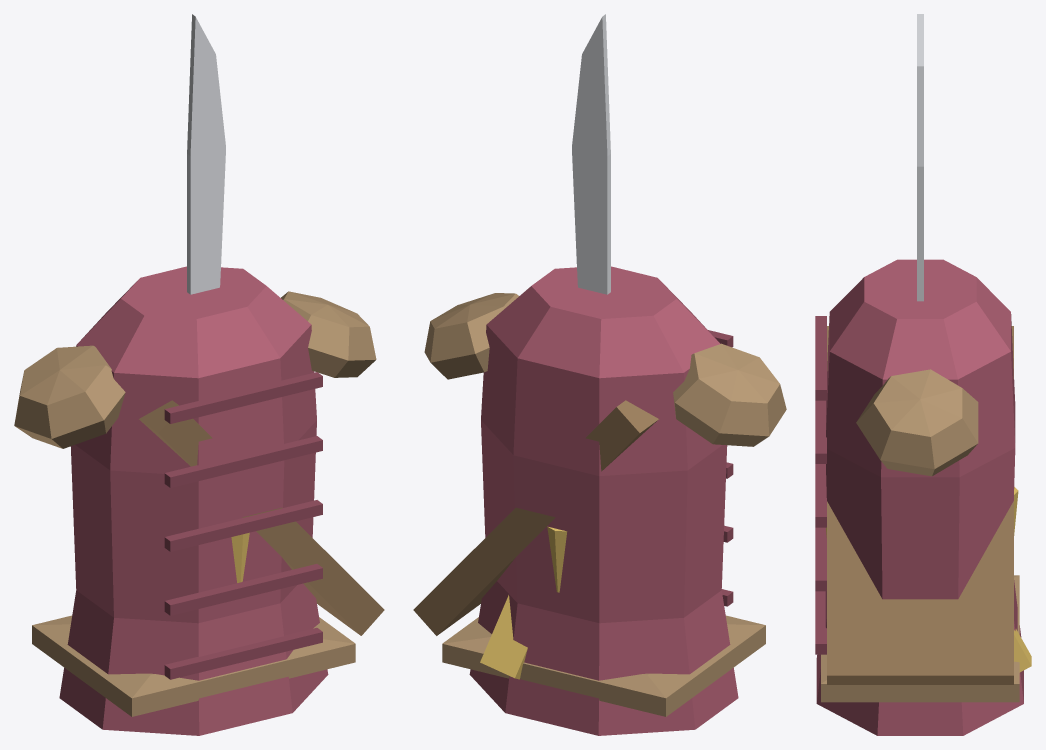
The model's file is twinblade.glb.
3 views of the same model, side by side, from view 1: azimuth 30°, elevation 25°; view 2: azimuth 150°, elevation 25°; view 3: azimuth 270°, elevation 25° (orthographic).
Parts seen in each view (by area): view 1: Torso, LeftHand, PauldronL, PauldronR, Head; view 2: Torso, LeftHand, PauldronL, PauldronR, Head; view 3: Torso, PauldronR, LeftHand, Head.
Part boxes in pixels (box(x1,y1,x2,y2)): Torso: box(32, 266, 384, 735); LeftHand: box(187, 14, 225, 294); PauldronL: box(14, 345, 125, 448); PauldronR: box(281, 291, 376, 377); Head: box(231, 532, 249, 582); Torso: box(413, 266, 765, 735); LeftHand: box(572, 14, 610, 294); PauldronL: box(673, 343, 786, 446); PauldronR: box(424, 293, 518, 379); Head: box(480, 526, 567, 679); Torso: box(815, 259, 1023, 735); PauldronR: box(856, 369, 978, 476); LeftHand: box(917, 14, 923, 301); Head: box(826, 487, 1031, 672).
Bounding box in the file's own units: 0.6776 × 1.26 × 0.3707.
